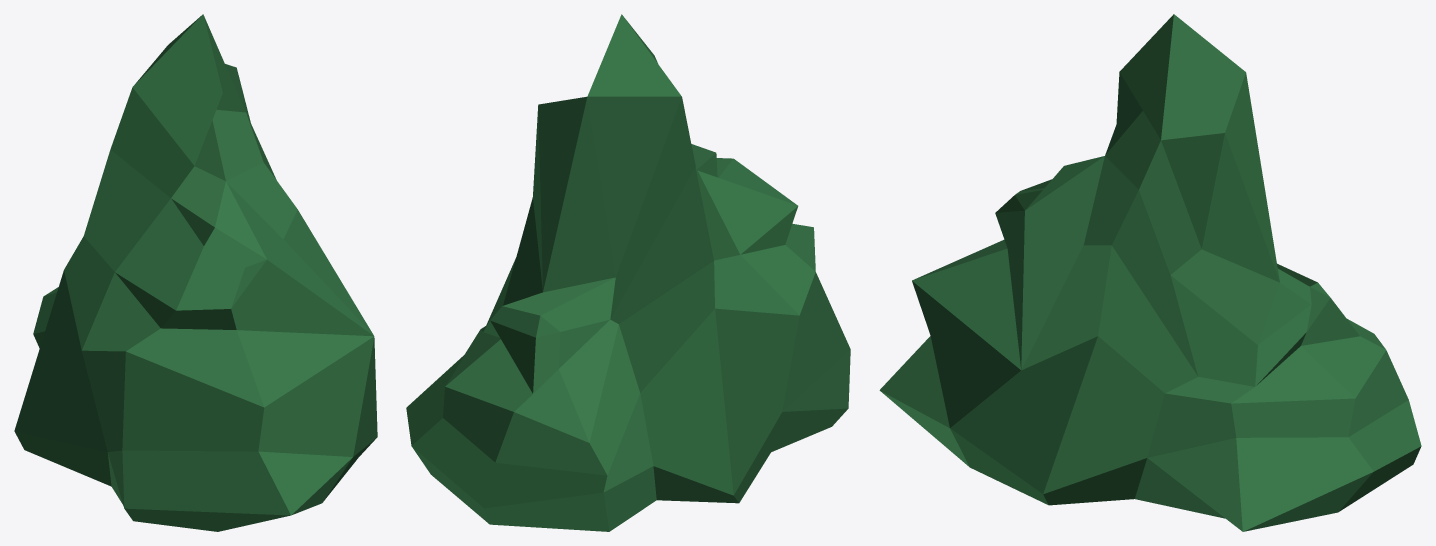
File: Bush1.fbx
3 renders of one model, left to right at view 1: azimuth 30°, elevation 25°; view 2: azimuth 150°, elevation 25°; view 3: azimuth 270°, elevation 25°, orthographic. The views are drawn at different scales.
Parts seen in each view (by area): view 1: Bush.1; view 2: Bush.1; view 3: Bush.1.
Part boxes in pixels (x1,y1,x2,y2): Bush.1: (14, 14, 377, 531); Bush.1: (406, 14, 850, 531); Bush.1: (879, 14, 1421, 531).
Size of the model in its own units: 517 by 696 by 697.
